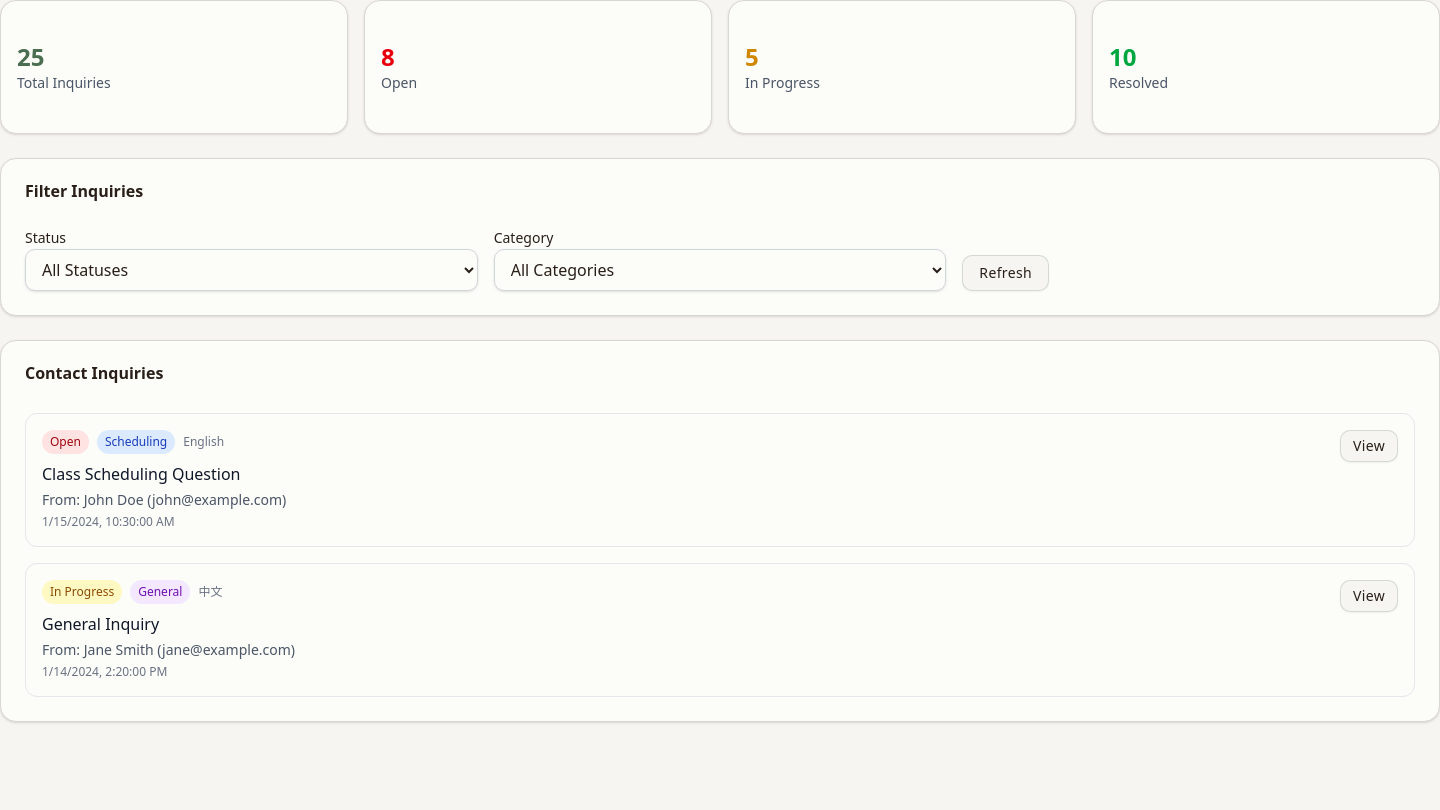
Scenario: InquiriesClient › Inquiry Detail Modal › should open detail modal when view button is clicked
Click the button "View" in the row of "English". click: click(1369, 446)
box: top-left (1340, 430), bottom-right (1398, 462)
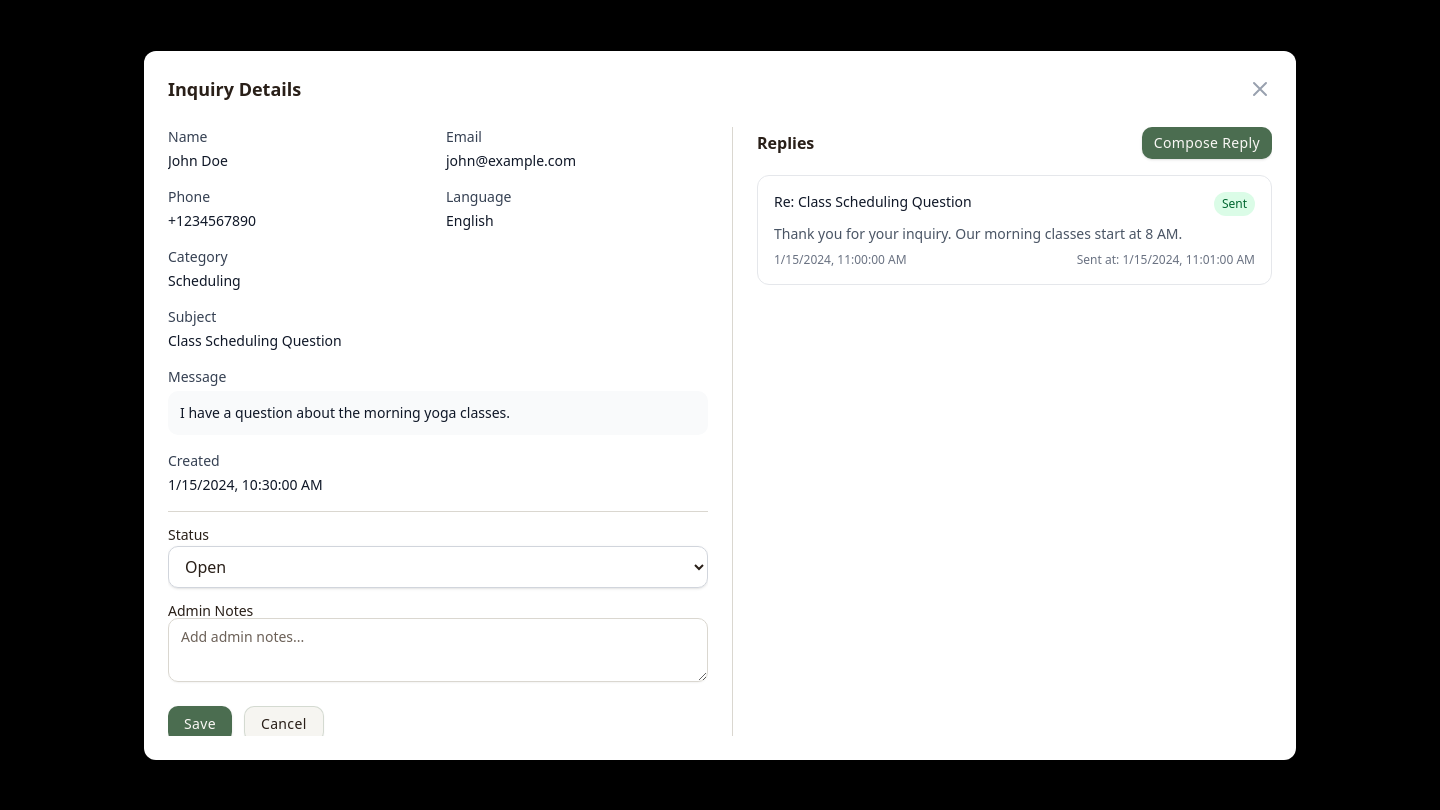
Expected: the heading "Inquiry Details" is shown, top-left (168, 74), bottom-right (301, 102)
